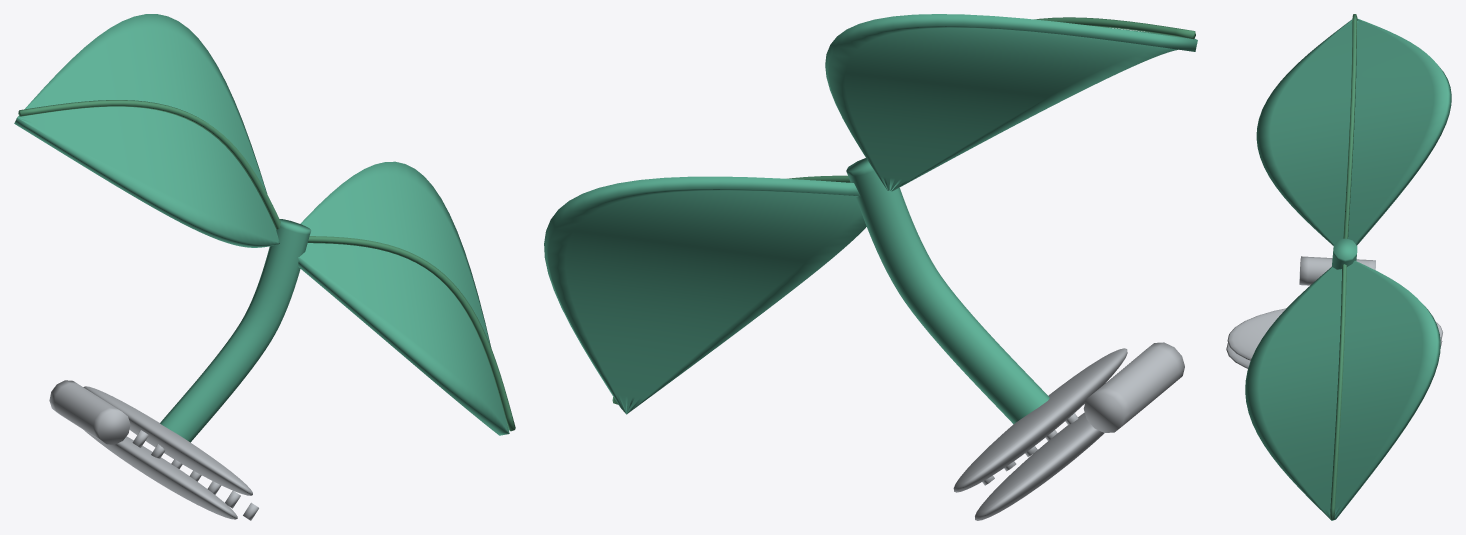
The model's file is Masculine-sidepart-sprout.glb.
3 renders of one model, left to right at view 1: azimuth 30°, elevation 25°; view 2: azimuth 150°, elevation 25°; view 3: azimuth 270°, elevation 25°, orthographic. The views are drawn at different scales.
Visible parts, largest first — view 1: 226 extra / Accessory / mint226, 226 extra / Sprout / clip silver235, 226 extra / Sprout / leaf vein235; view 2: 226 extra / Accessory / mint226, 226 extra / Sprout / clip silver235, 226 extra / Sprout / leaf vein235; view 3: 226 extra / Accessory / mint226, 226 extra / Sprout / leaf vein235, 226 extra / Sprout / clip silver235.
Part boxes in pixels (x1,y1,x2,y2): 226 extra / Accessory / mint226: (14, 14, 509, 442); 226 extra / Sprout / clip silver235: (49, 380, 258, 520); 226 extra / Sprout / leaf vein235: (18, 100, 515, 431); 226 extra / Accessory / mint226: (544, 14, 1197, 424); 226 extra / Sprout / clip silver235: (953, 342, 1184, 520); 226 extra / Sprout / leaf vein235: (612, 17, 1195, 404); 226 extra / Accessory / mint226: (1245, 18, 1451, 520); 226 extra / Sprout / leaf vein235: (1330, 14, 1357, 519); 226 extra / Sprout / clip silver235: (1226, 256, 1442, 368).
Bounding box in the file's own units: 0.1733 × 0.1529 × 0.0906.
